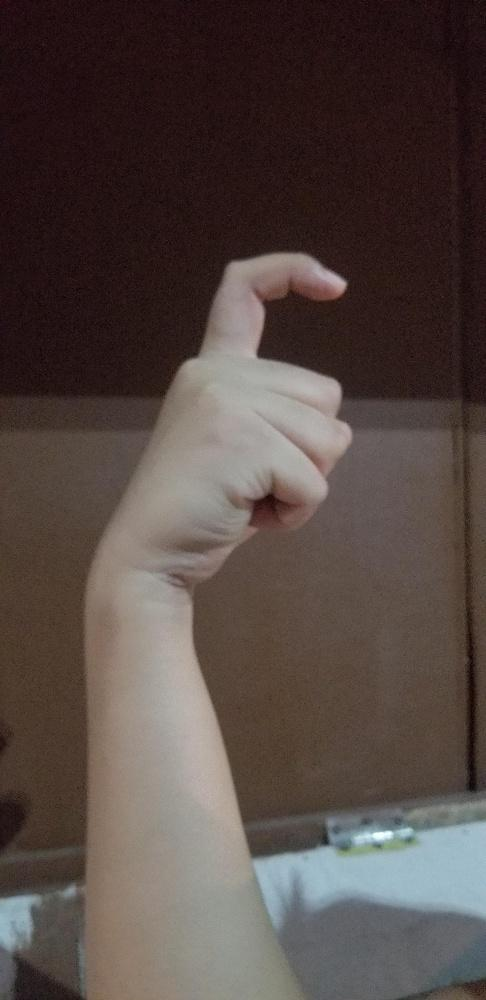x: (98, 248, 353, 579)
